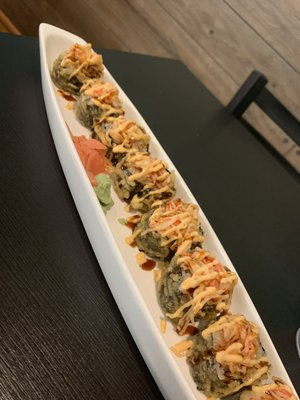curry: (1, 36, 299, 400)
sandwich: (36, 39, 266, 397)
